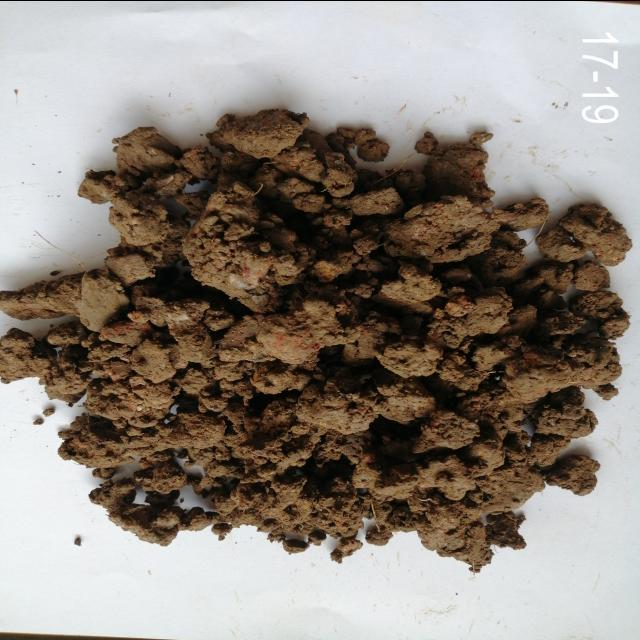soil: (108, 239, 552, 482)
